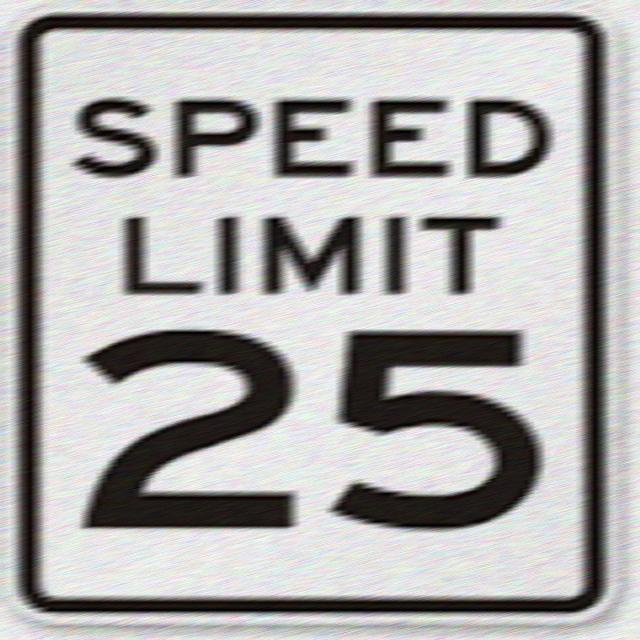speedLimit25: (4, 10, 620, 630)
